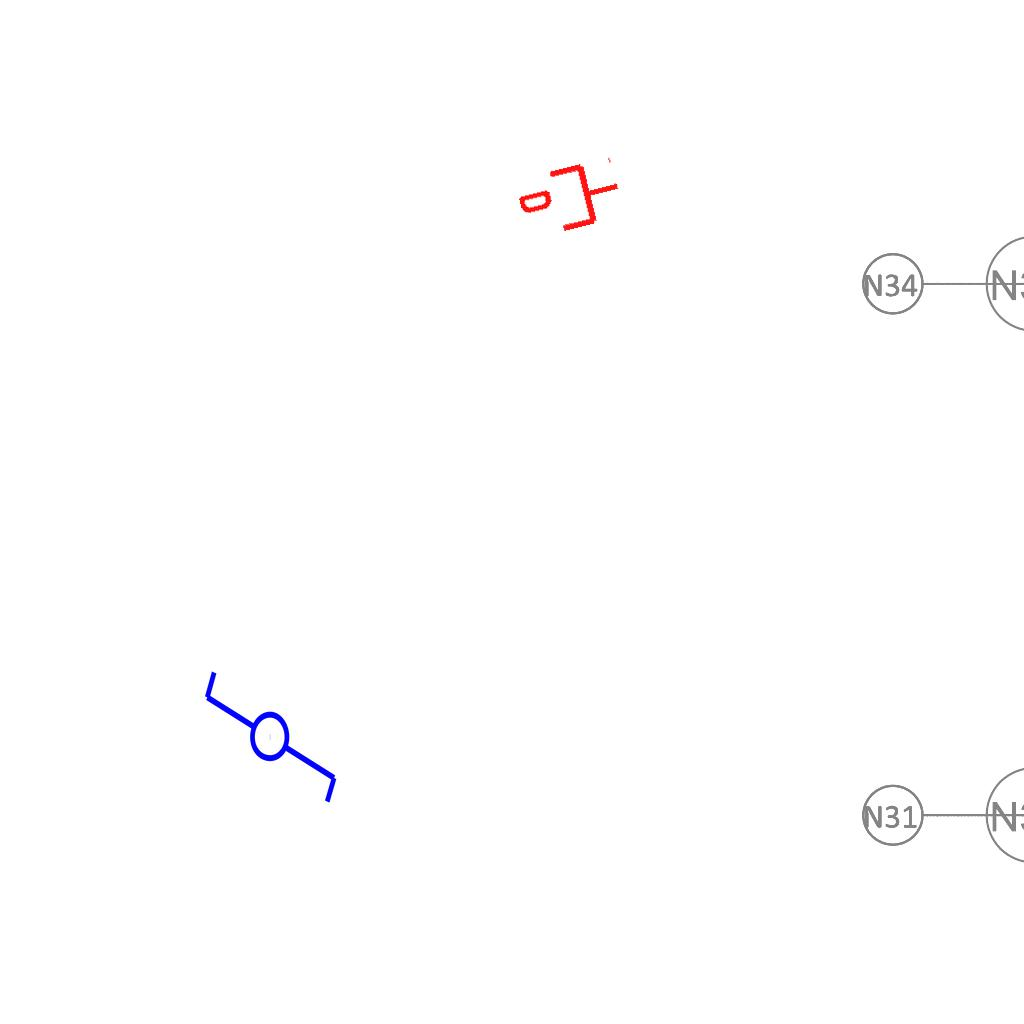Datenanschluss_einfach: (513, 152, 628, 244)
Wechselschalter: (200, 650, 344, 807)
